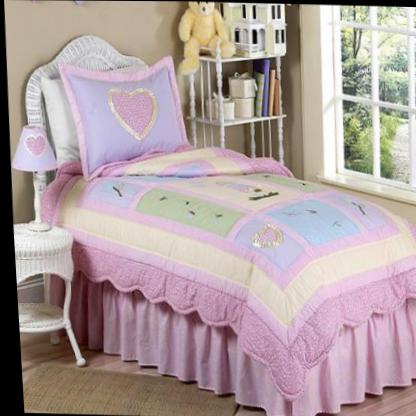Bed: (18, 33, 416, 414)
Window: (292, 3, 416, 197)
